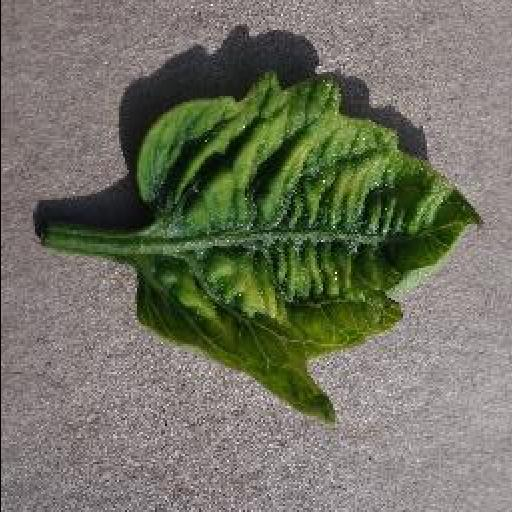disease_tomato: (132, 66, 484, 426)
